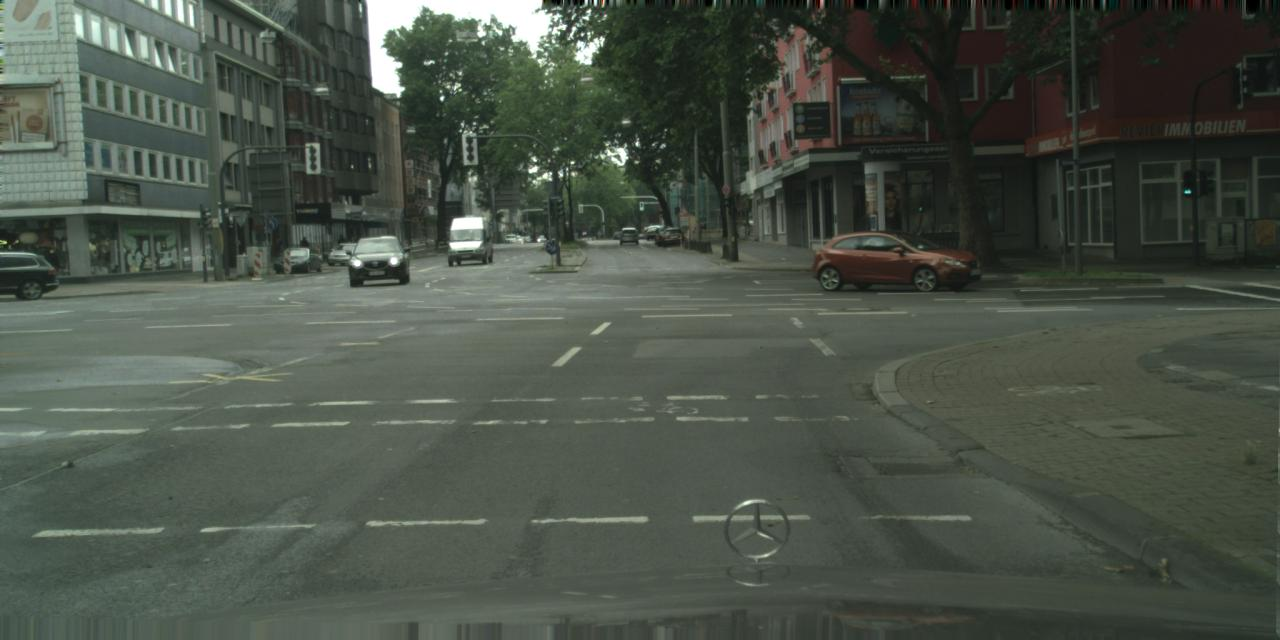ped: (299, 236, 309, 261), (337, 234, 346, 258)
